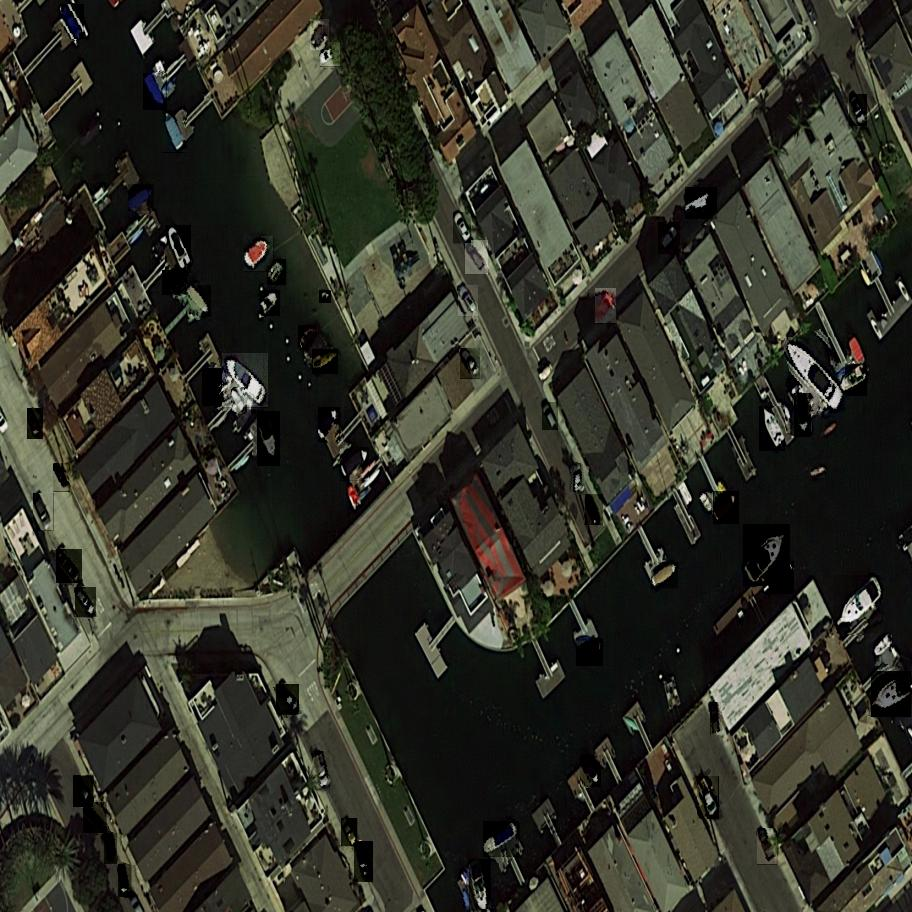large-vehicle: (680, 187, 723, 219), (696, 776, 722, 819)
ship: (780, 337, 850, 413), (826, 574, 890, 633), (739, 525, 797, 587), (217, 354, 272, 408), (479, 822, 525, 858), (198, 369, 241, 407), (255, 411, 282, 466), (165, 225, 195, 273), (757, 407, 788, 451), (242, 236, 278, 272), (336, 446, 373, 481), (835, 365, 873, 398), (161, 110, 187, 153), (710, 492, 742, 525), (142, 73, 169, 111), (300, 333, 332, 365), (184, 285, 214, 317), (767, 562, 797, 594), (125, 185, 159, 213), (316, 407, 342, 443), (648, 562, 682, 589), (61, 4, 87, 39), (574, 639, 606, 667), (578, 755, 605, 787), (308, 350, 343, 374), (160, 270, 191, 296), (795, 394, 812, 436), (871, 634, 896, 661), (258, 291, 283, 317), (266, 260, 290, 286), (297, 325, 321, 350), (697, 492, 716, 515), (230, 389, 248, 413), (809, 468, 827, 480), (318, 290, 333, 304)
small-vehicle: (54, 549, 85, 584), (655, 222, 685, 255), (31, 493, 57, 531), (462, 240, 490, 275), (593, 289, 620, 324), (81, 802, 110, 834), (273, 684, 302, 715), (353, 842, 375, 882), (307, 19, 334, 50), (755, 829, 778, 865), (73, 587, 99, 618), (455, 286, 480, 317), (71, 776, 96, 807), (458, 348, 482, 380), (313, 752, 332, 790), (451, 212, 473, 244), (316, 43, 344, 67), (848, 94, 869, 126), (583, 494, 604, 525), (26, 408, 46, 440), (51, 464, 73, 492), (340, 819, 361, 848), (540, 402, 560, 430), (118, 864, 133, 897), (104, 833, 117, 864), (711, 702, 722, 735), (573, 465, 582, 493)
